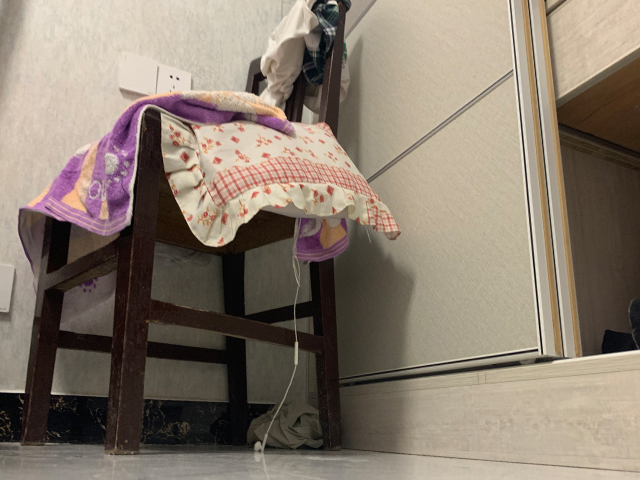cabinet: (337, 1, 640, 473)
stool: (18, 1, 353, 457)
wire: (253, 223, 302, 453)
